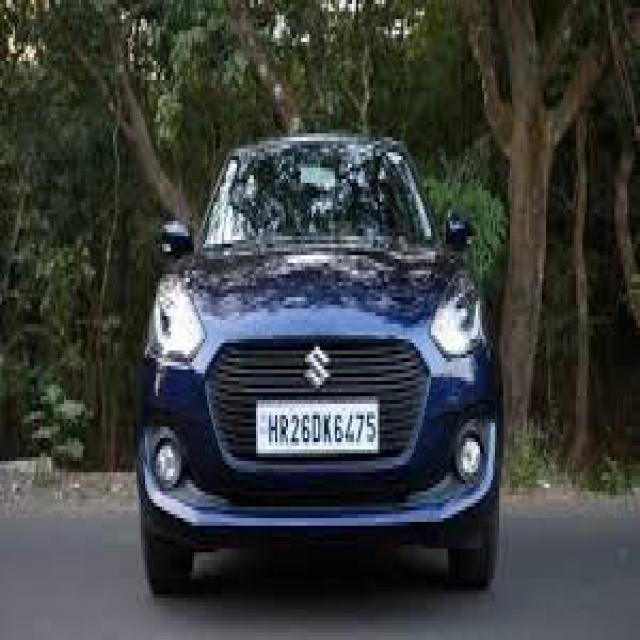Car: (141, 134, 500, 592)
